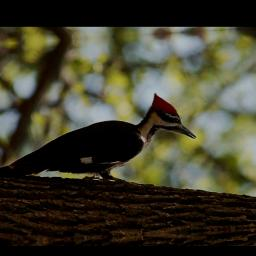Woodpecker: (0, 90, 201, 203)
